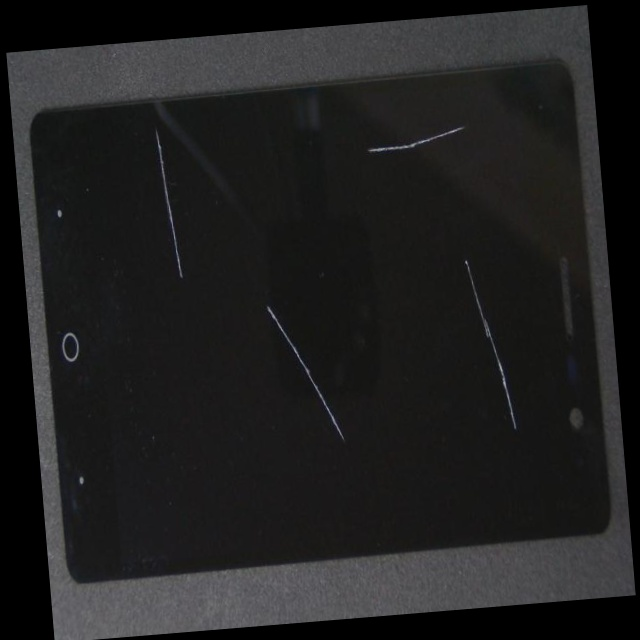scratch: (82, 70, 427, 538), (292, 320, 631, 565), (239, 81, 601, 206), (111, 90, 253, 174)
